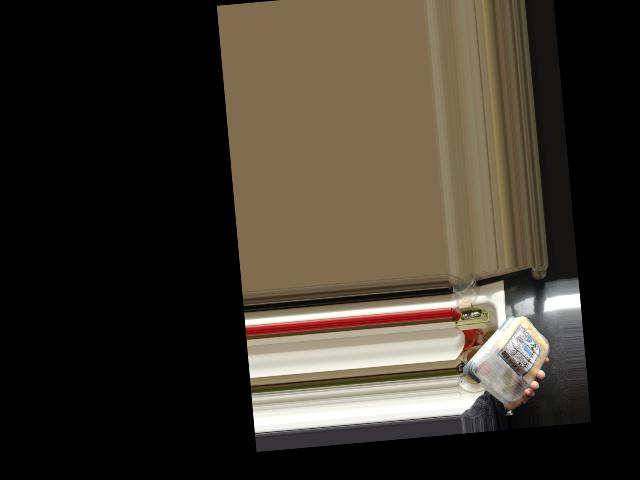cheese: (471, 313, 548, 406)
